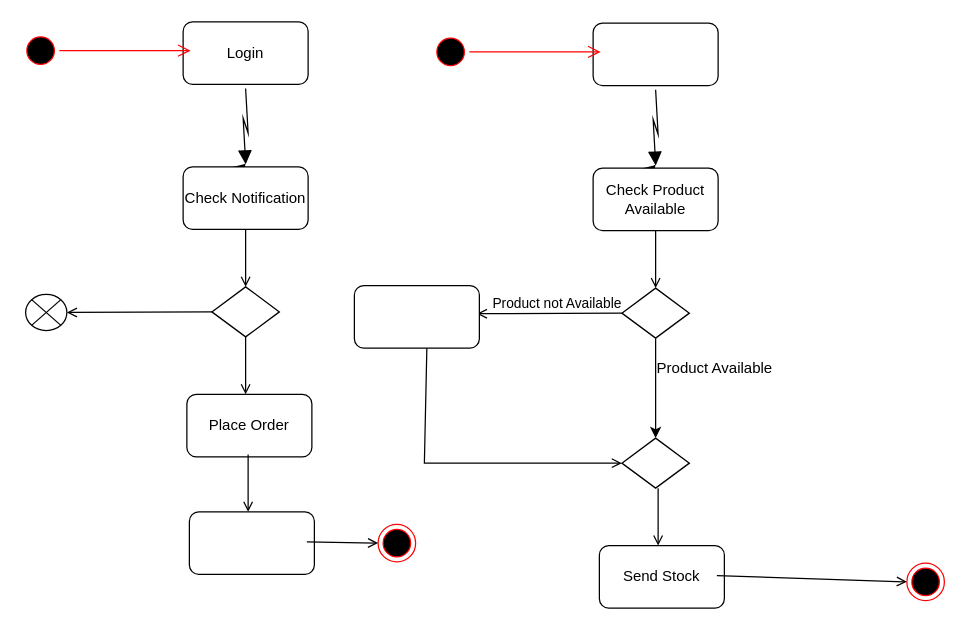
This 966x630 diagram has some shape labels left out. Here are the shapes that lost their labels. From the top down, the centre of each, then its label:
At point (655, 54): "View Order".
At point (416, 316): "Manufacture Product".
At point (251, 542): "Logout".
